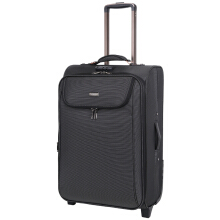luggage: (54, 2, 165, 220)
